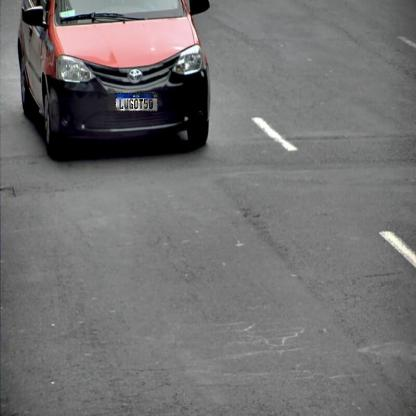PlacaM: (115, 93, 158, 112)
